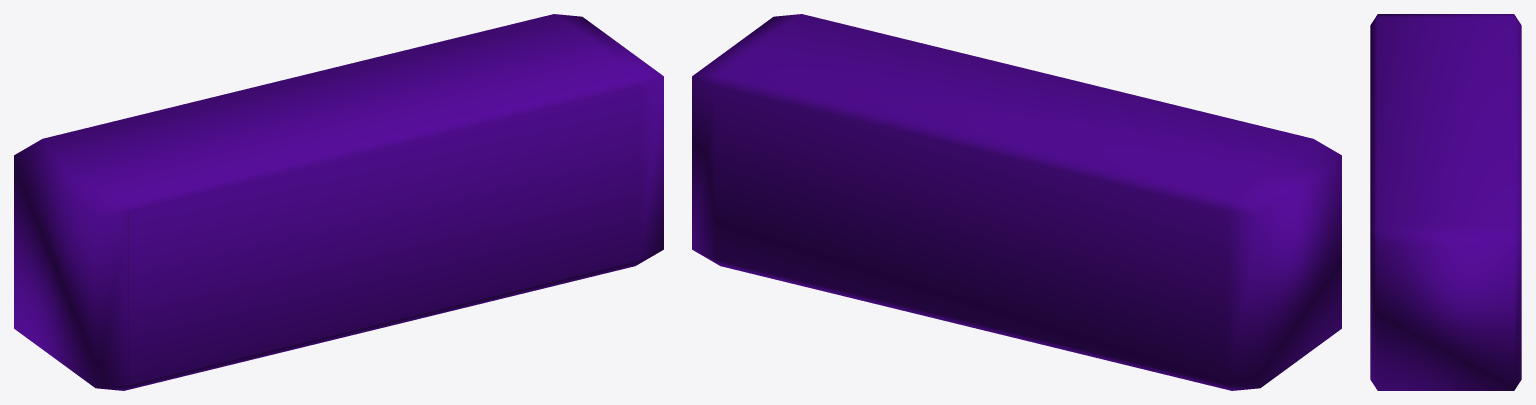
Rendered from Brick_04.obj.
3 views of the same model, side by side, from view 1: azimuth 30°, elevation 25°; view 2: azimuth 150°, elevation 25°; view 3: azimuth 270°, elevation 25° (orthographic). The views are drawn at different scales.
Parts seen in each view (by area): view 1: Cube_Paddle; view 2: Cube_Paddle; view 3: Cube_Paddle.
Part boxes in pixels (x1,y1,x2,y2): Cube_Paddle: [14, 14, 663, 390]; Cube_Paddle: [692, 14, 1341, 390]; Cube_Paddle: [1370, 14, 1521, 390].
Bounding box in the file's own units: 7.25 × 2.34 × 2.
Materials: 1 (1 with a texture image).
